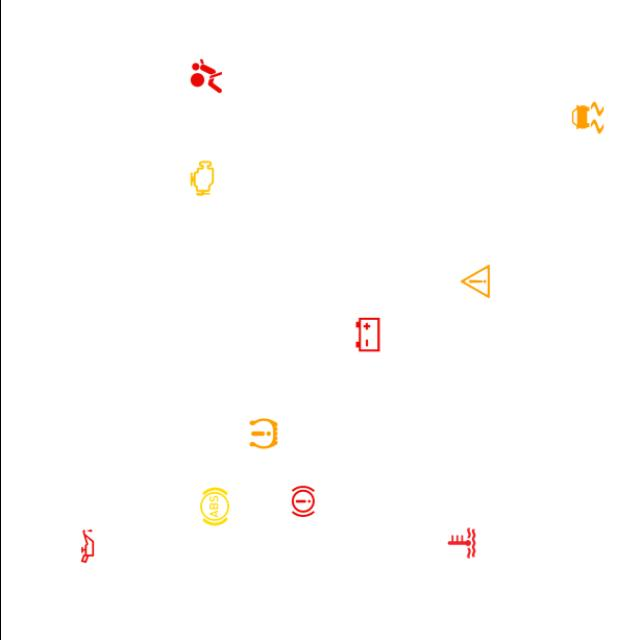Anti Lock Braking System: (192, 486, 235, 528)
Braking System Issue: (282, 480, 324, 522)
Charging System Issue: (346, 314, 388, 356)
Check Engine: (180, 157, 222, 199)
Electronic Stability Problem -ESP-: (566, 97, 608, 139)
Engine Overheating Warning Light: (439, 522, 482, 564)
Low Engine Oil Warning Light: (66, 525, 108, 567)
Low Tire Pressure Warning Light: (242, 412, 284, 454)
Master warning light: (454, 260, 496, 302)
SRS-Airbag: (184, 55, 227, 97)
